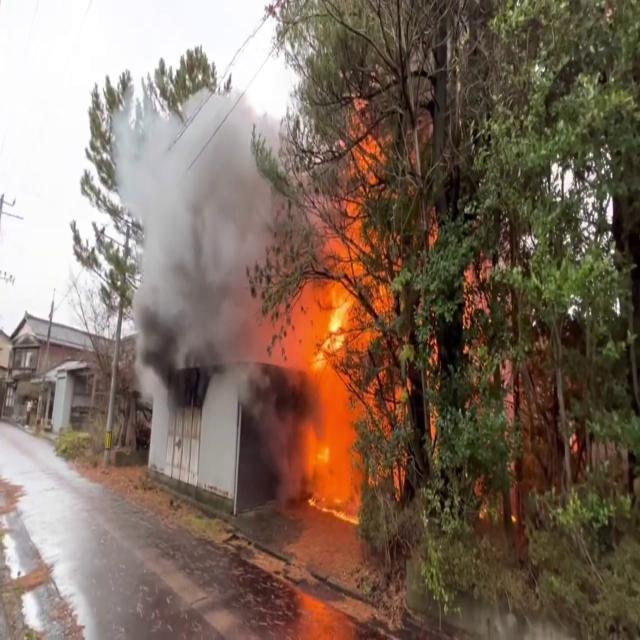Fire: (258, 97, 427, 487)
Smoke: (96, 68, 286, 394)
